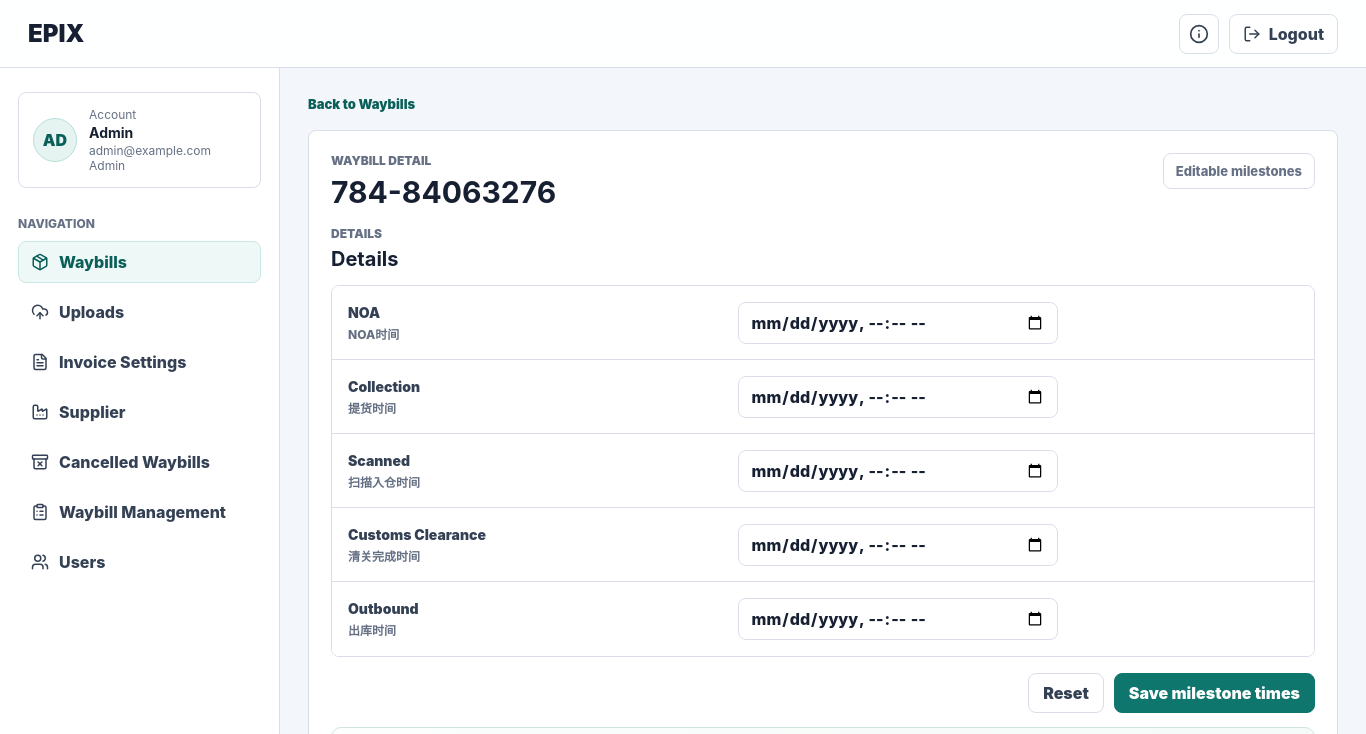
Test: WaybillDetailPage › lets admins edit milestone times
The width and height of the screenshot is (1366, 734).
Type "2026-05-11T12:30" into the field named "NOA Time" at [898, 322], box x1=738 y1=302 x2=1058 y2=344
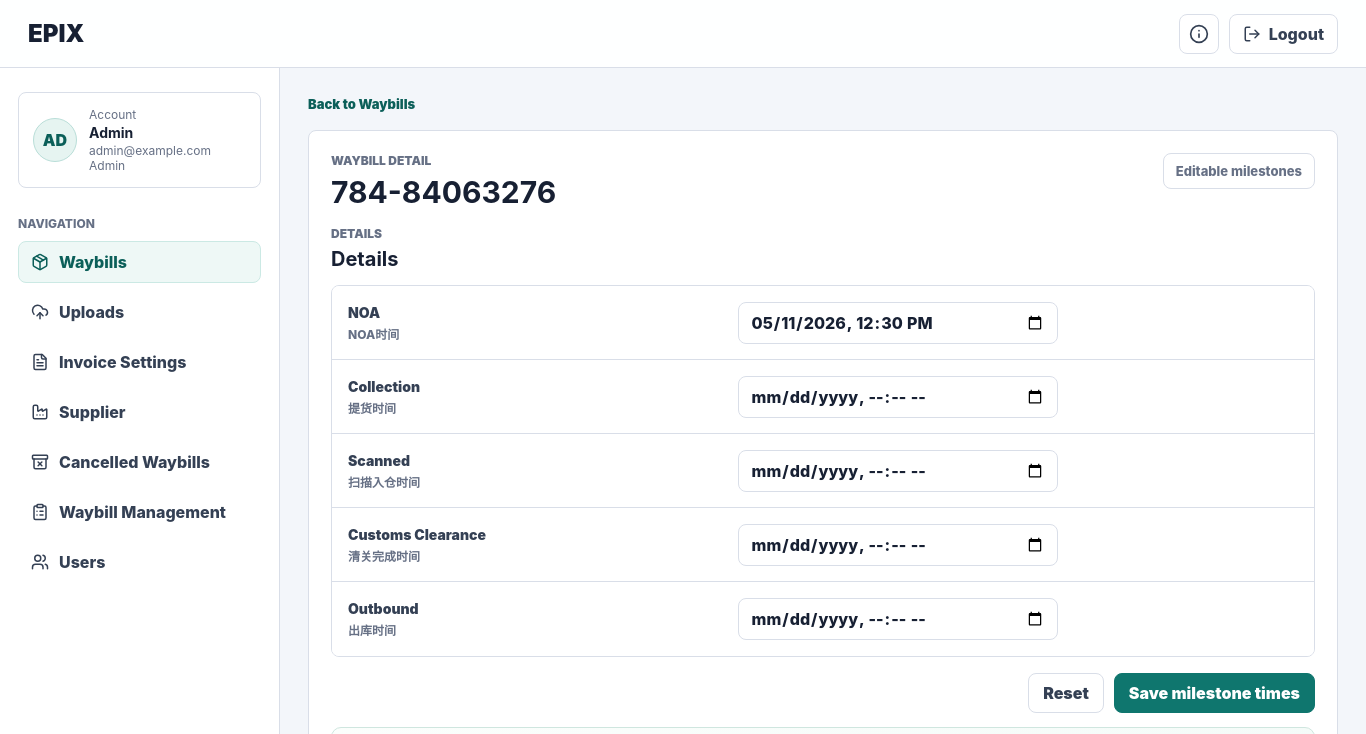
Click the button "Save milestone times" at [1214, 693], box x1=1114 y1=673 x2=1315 y2=713
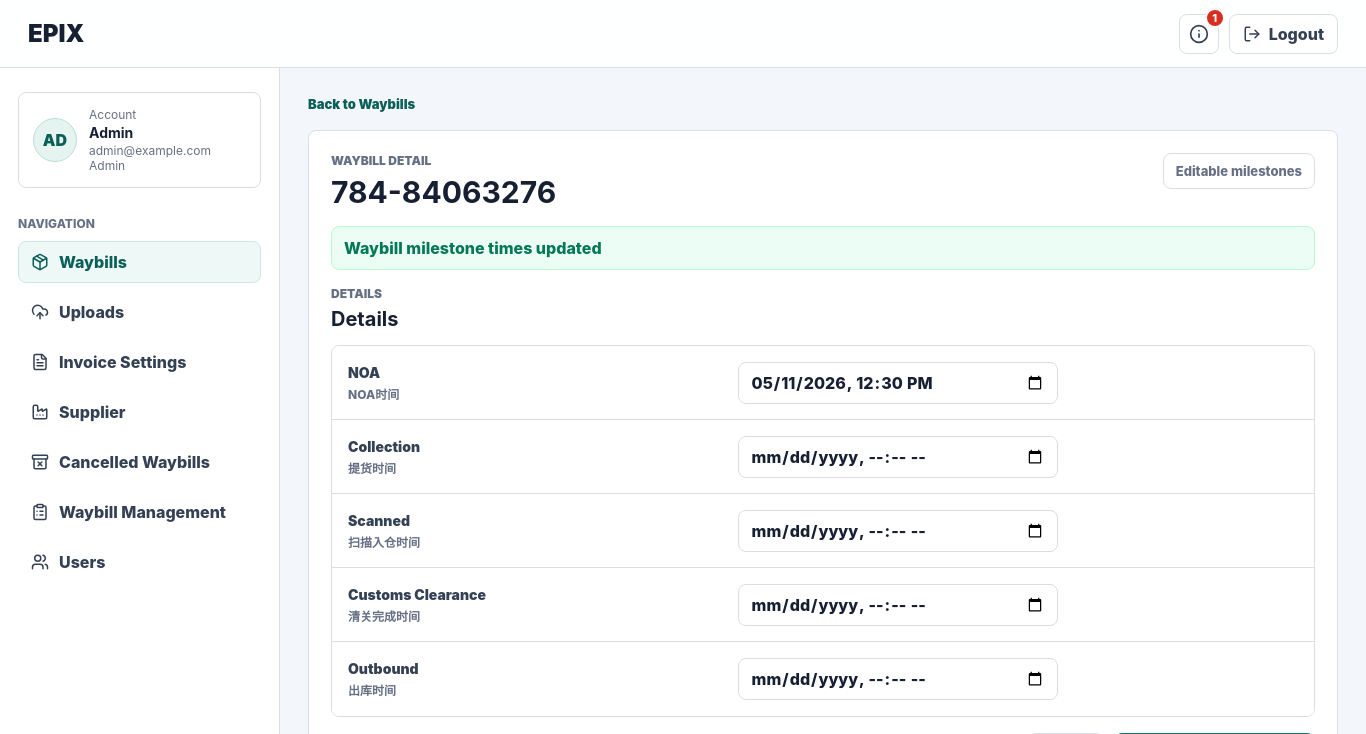
Expected: the text "Waybill milestone times updated" is shown, x1=331 y1=226 x2=1315 y2=270
